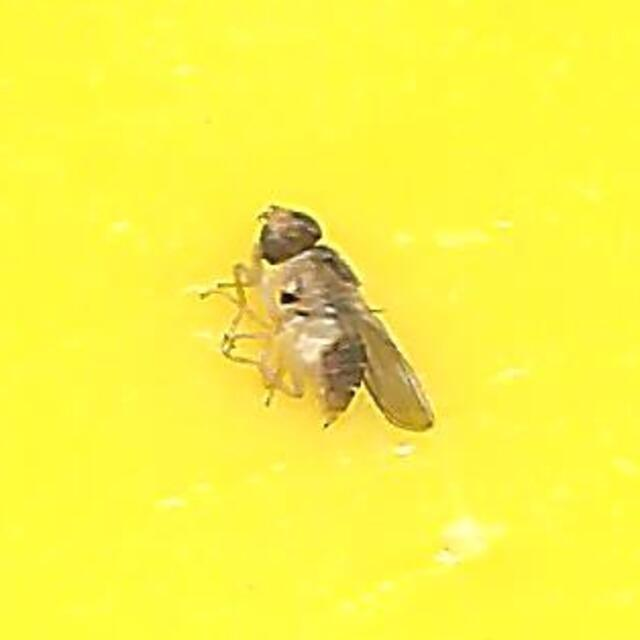Brachycera: (204, 204, 436, 436)
